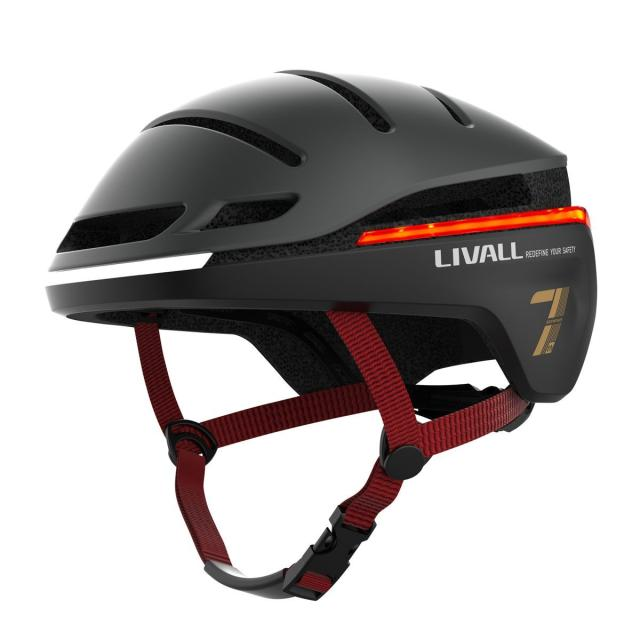Helmet: (46, 62, 604, 406)
